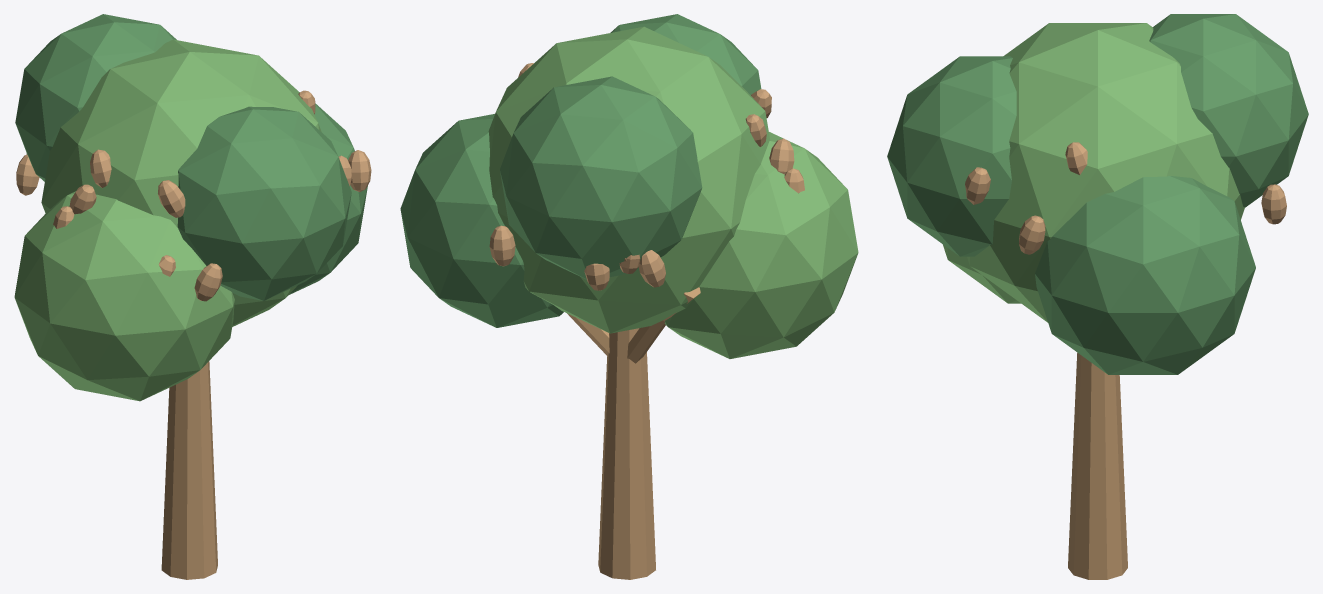
File: HOB_AlmondTree.fbx
3 renders of one model, left to right at view 1: azimuth 30°, elevation 25°; view 2: azimuth 150°, elevation 25°; view 3: azimuth 270°, elevation 25°, orthographic. The views are drawn at different scales.
Parts seen in each view (by area): view 1: HOB_AlmondTree; view 2: HOB_AlmondTree; view 3: HOB_AlmondTree.
Part boxes in pixels (<box>): HOB_AlmondTree: <box>14,14,371,579</box>; HOB_AlmondTree: <box>400,14,858,579</box>; HOB_AlmondTree: <box>887,14,1308,579</box>.
Size of the model in its own units: 292 by 394 by 280.
